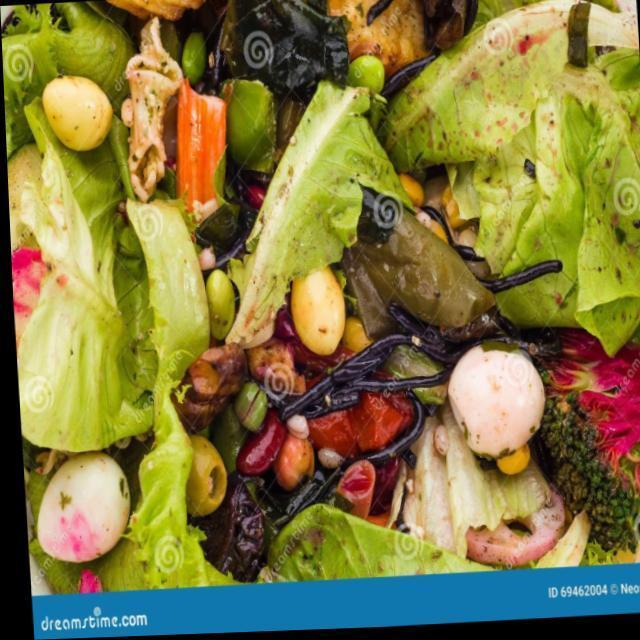Garbage: (0, 0, 640, 597)
